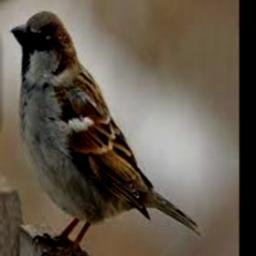Sparrow: (11, 12, 200, 256)
